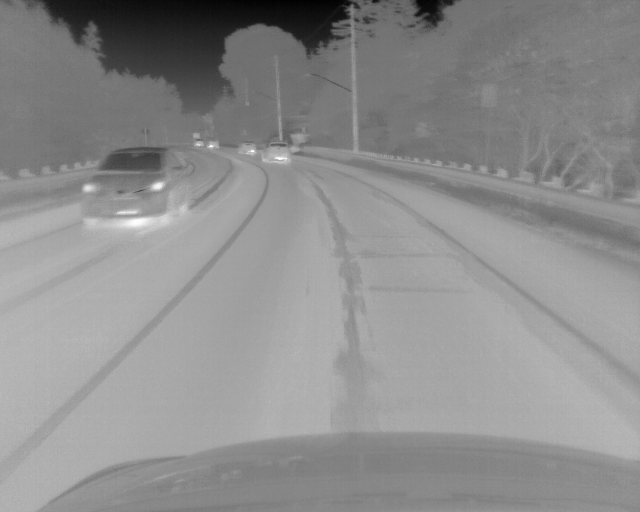car: (79, 146, 191, 222), (263, 141, 290, 164), (237, 141, 257, 156), (205, 141, 221, 149), (193, 139, 204, 147)
